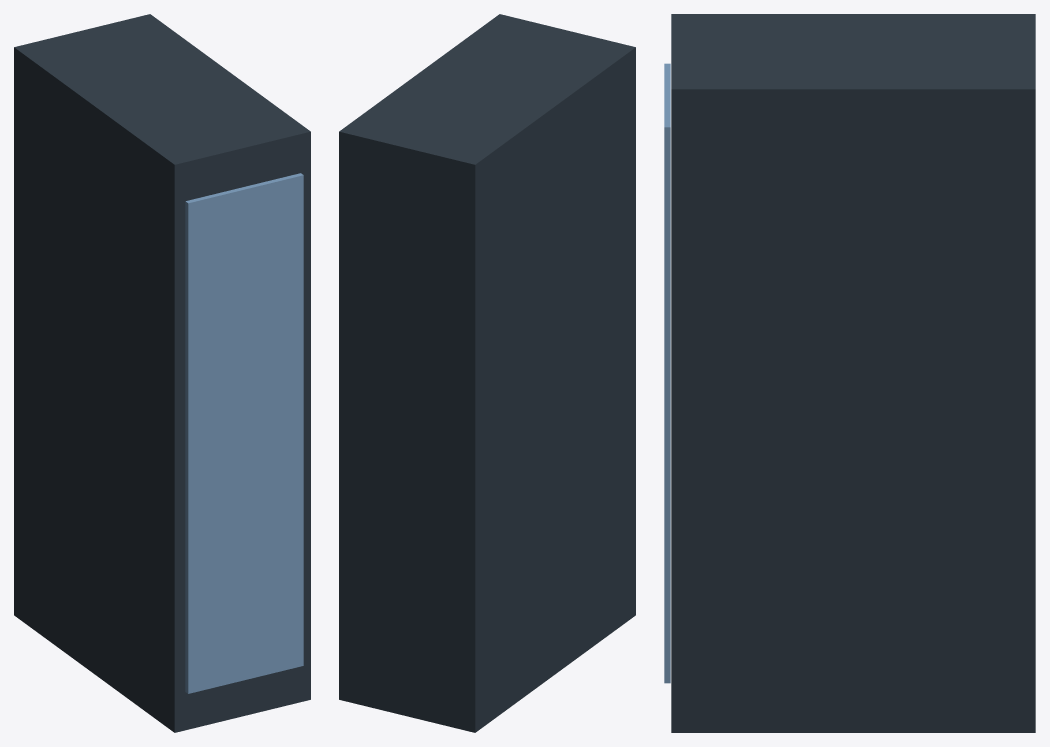
The model's file is stor.glb.
3 views of the same model, side by side, from view 1: azimuth 30°, elevation 25°; view 2: azimuth 150°, elevation 25°; view 3: azimuth 270°, elevation 25° (orthographic). The views are drawn at different scales.
Visible parts, largest first — view 1: Body, Front; view 2: Body; view 3: Body, Front.
Boxes of the visible parts, x1=… form: Body: x1=14, y1=14, x2=310, y2=732; Front: x1=185, y1=173, x2=303, y2=693; Body: x1=339, y1=14, x2=635, y2=732; Body: x1=671, y1=14, x2=1035, y2=732; Front: x1=664, y1=63, x2=670, y2=683.
Bounding box in the file's own units: 0.552 × 2.2 × 1.15.
